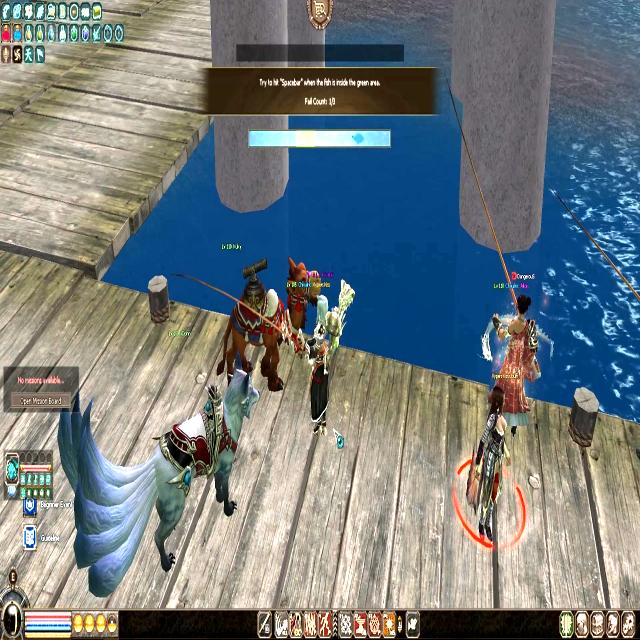fishes: (352, 132, 364, 145)
